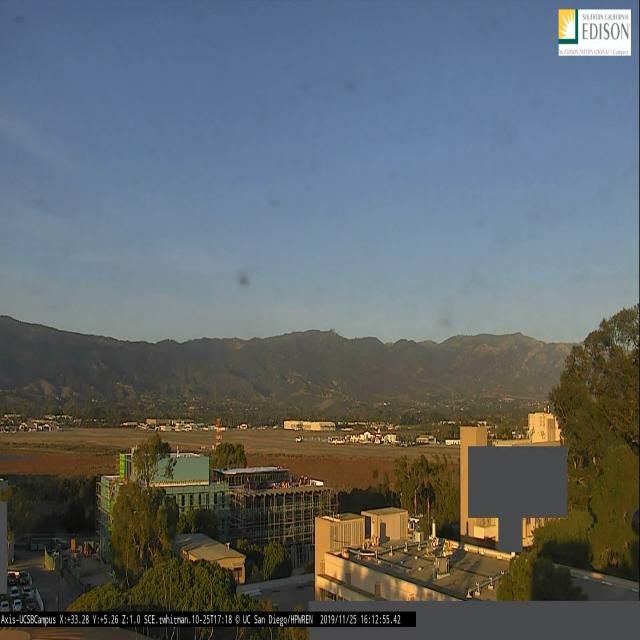smoke: (329, 328, 335, 332)
